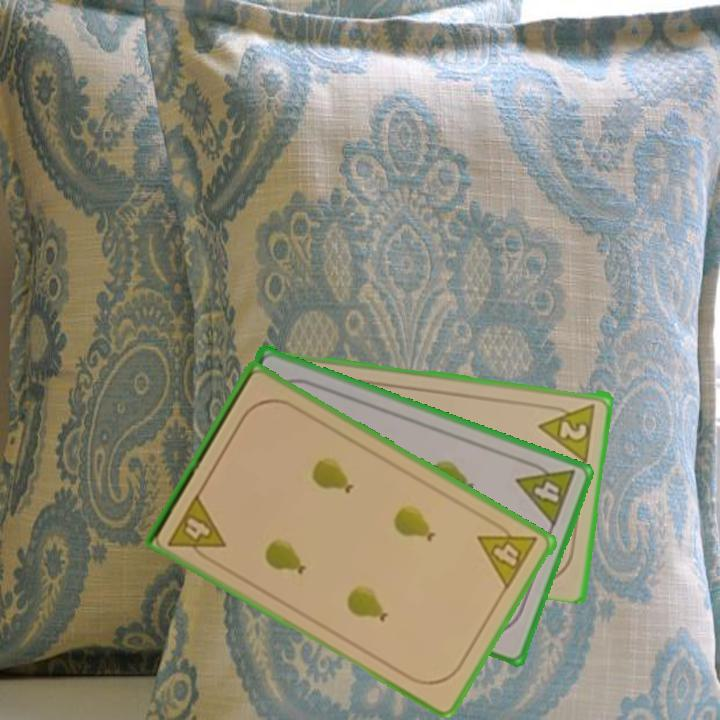2p: (536, 399, 599, 463)
4p: (475, 515, 541, 593), (512, 455, 579, 530), (164, 490, 229, 567)
